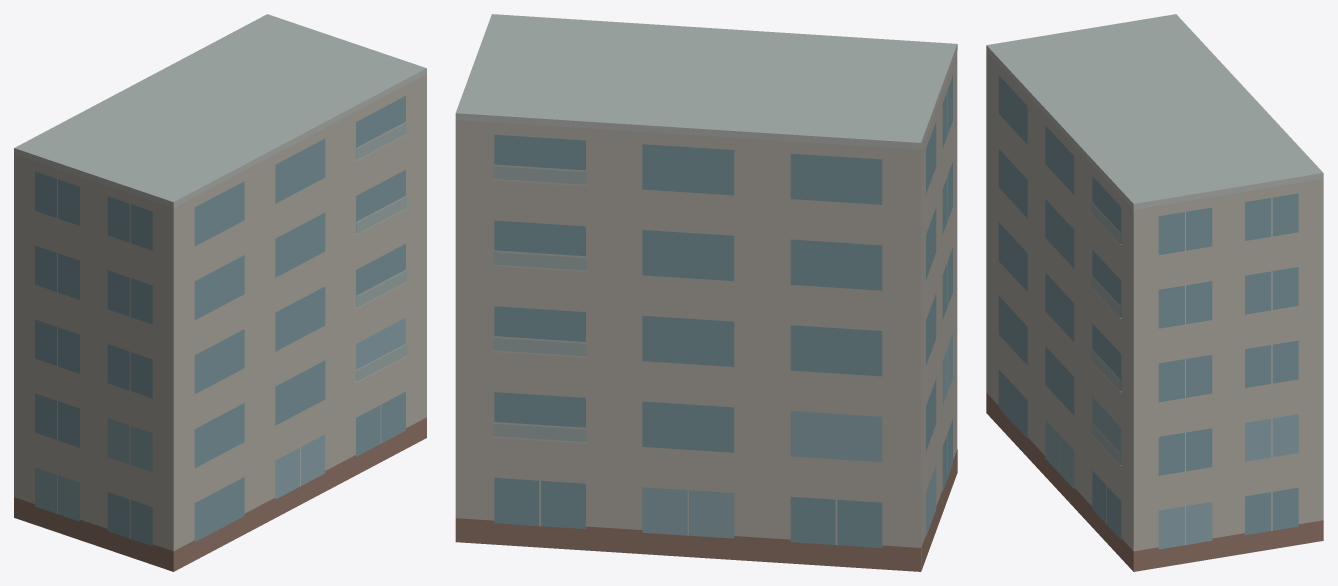
File: survey-upis-32719131.glb
The picture shows the model from 3 angles, left to right: view 1: azimuth 30°, elevation 25°; view 2: azimuth 150°, elevation 25°; view 3: azimuth 270°, elevation 25°; orthographic projection. The views are drawn at different scales.
Visible parts, largest first — view 1: survey-upis-32719131.tmp; view 2: survey-upis-32719131.tmp; view 3: survey-upis-32719131.tmp.
Part boxes in pixels (<box>): survey-upis-32719131.tmp: <box>14,14,426,571</box>; survey-upis-32719131.tmp: <box>455,14,957,571</box>; survey-upis-32719131.tmp: <box>986,14,1323,571</box>.
Bounding box in the file's own units: 17.29 × 15.6 × 12.97.
